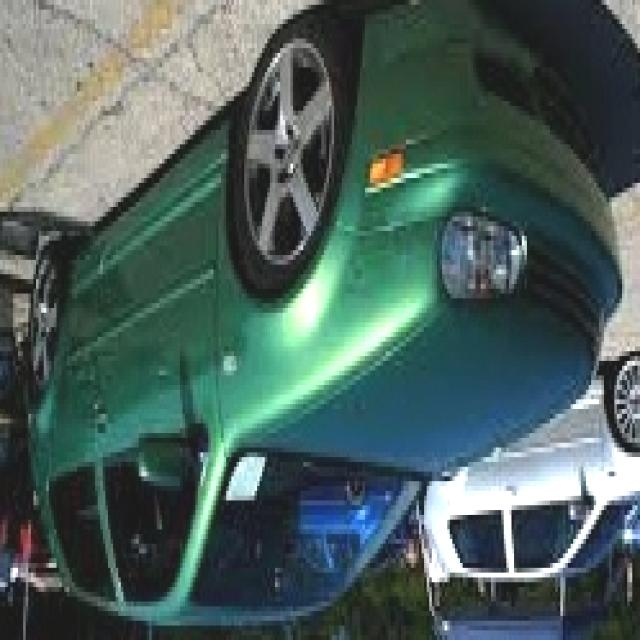green: (27, 0, 622, 623)
